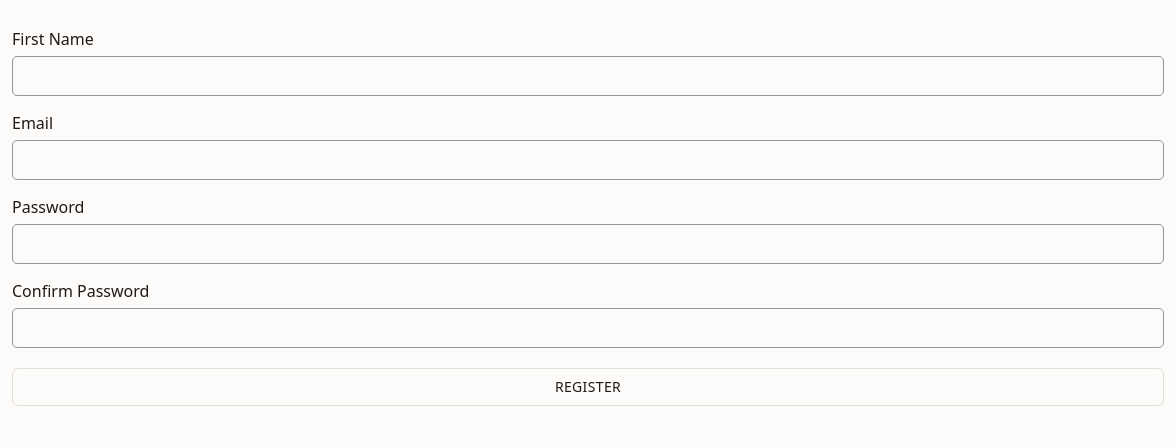
Test case: FormComponent › still refuses a form with nothing in it
Click the button "Register" at [588, 387], box [12,368,1164,406]
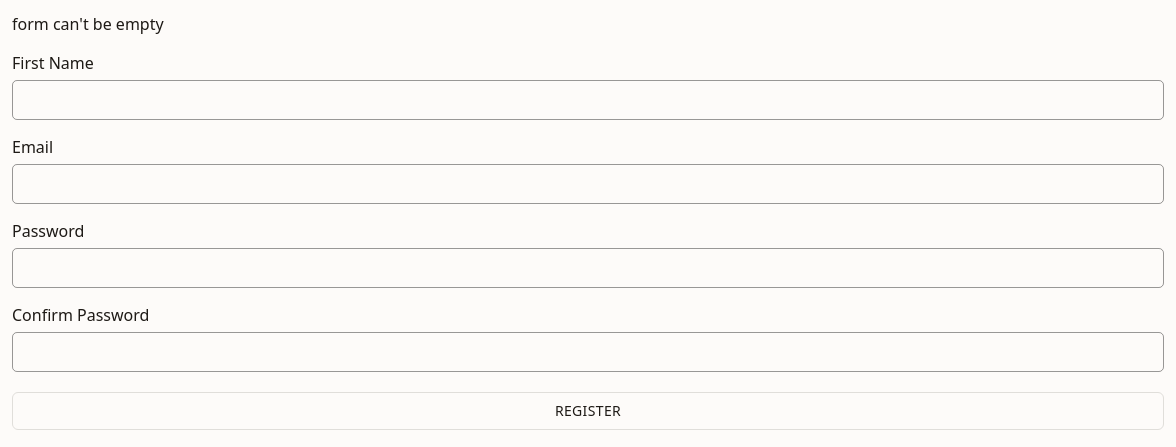
Result: the list item "form can't be empty" is shown at [12,13,164,35]
